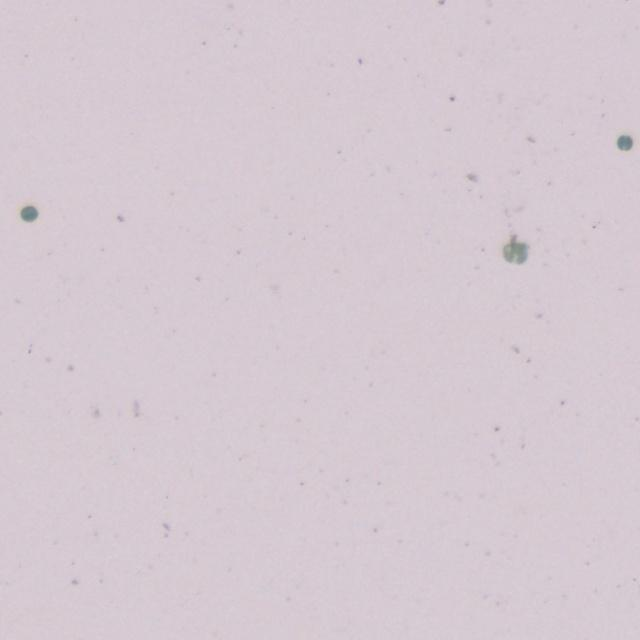non_viable: (502, 236, 528, 264), (20, 205, 38, 222), (616, 135, 633, 151)
